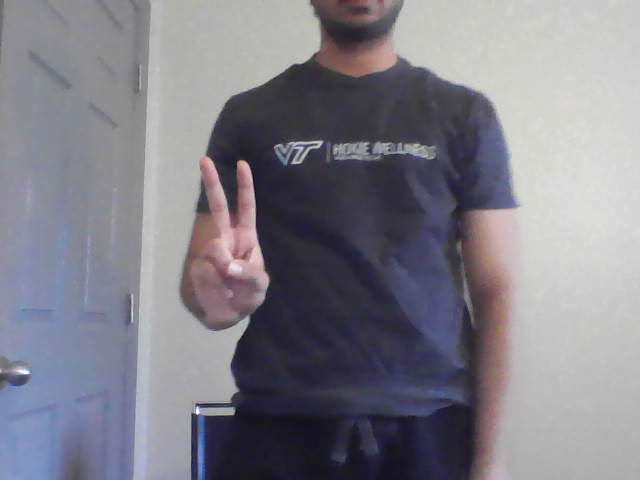two: (181, 152, 274, 333)
